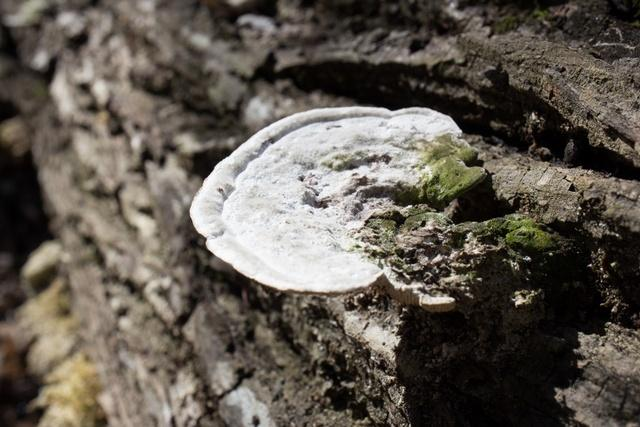Non-edible Mushroom: (188, 103, 489, 314)
